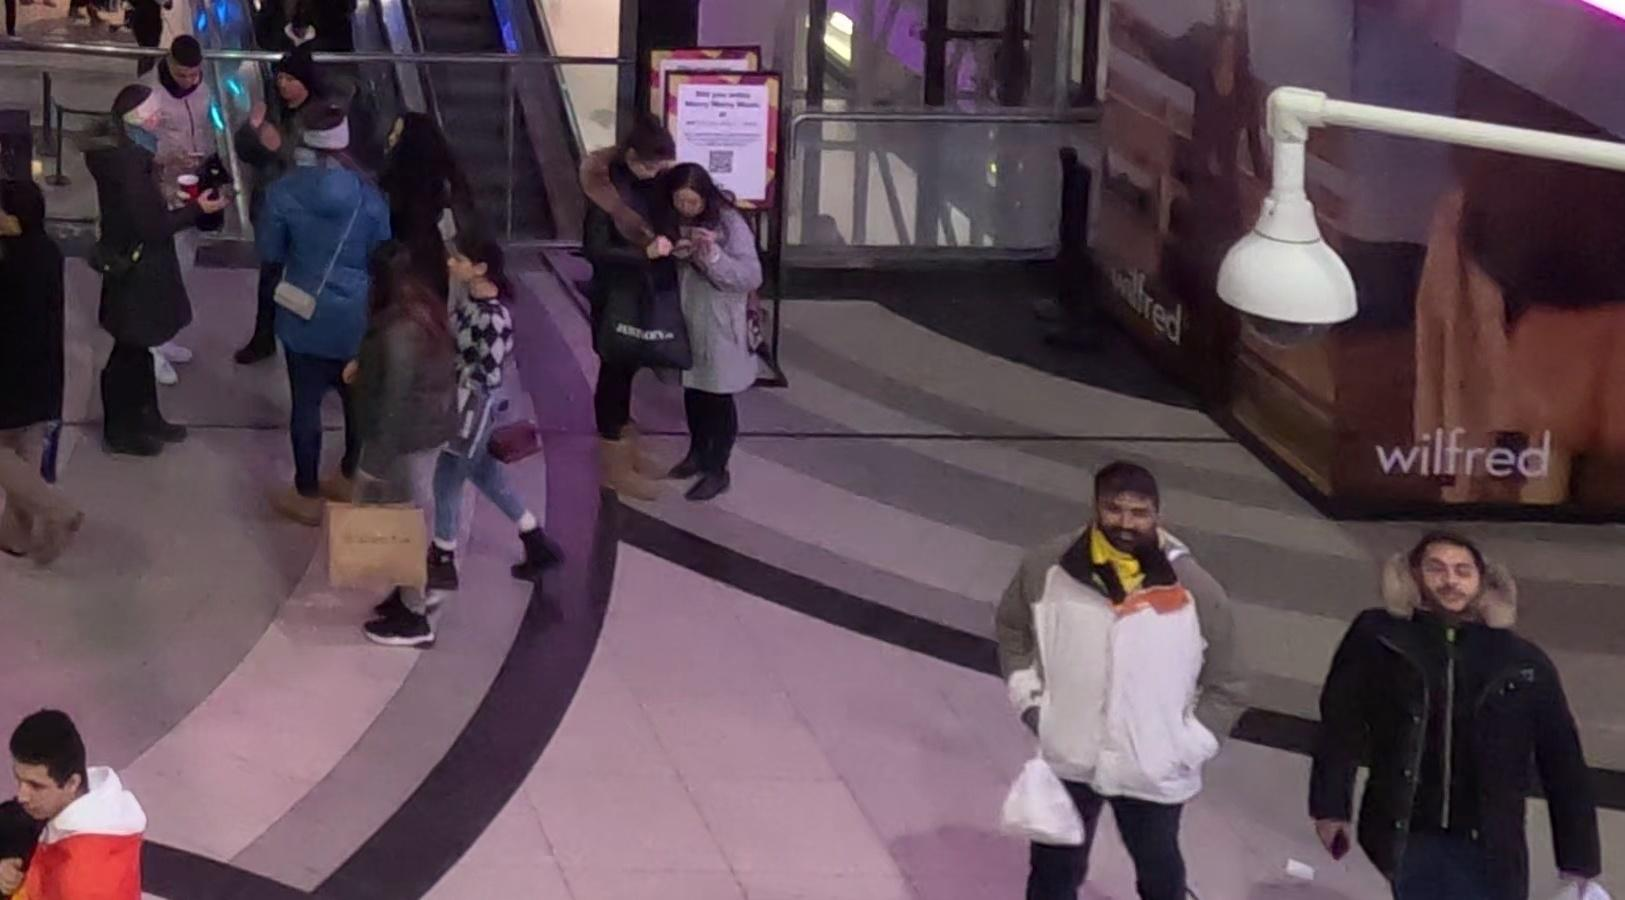person: (992, 439, 1238, 900), (1307, 537, 1609, 889), (339, 237, 470, 664), (425, 231, 570, 603), (653, 141, 786, 510), (263, 103, 376, 531), (83, 87, 207, 461), (587, 109, 690, 512), (1, 698, 162, 900)
